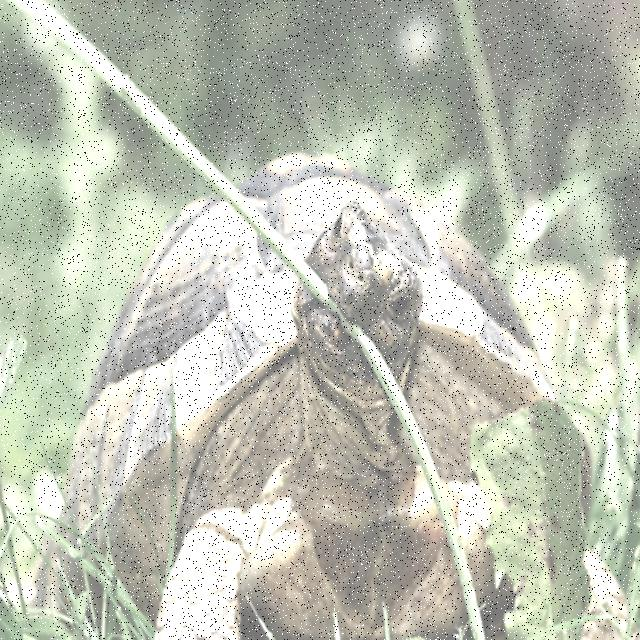tortoise: (46, 140, 558, 640)
